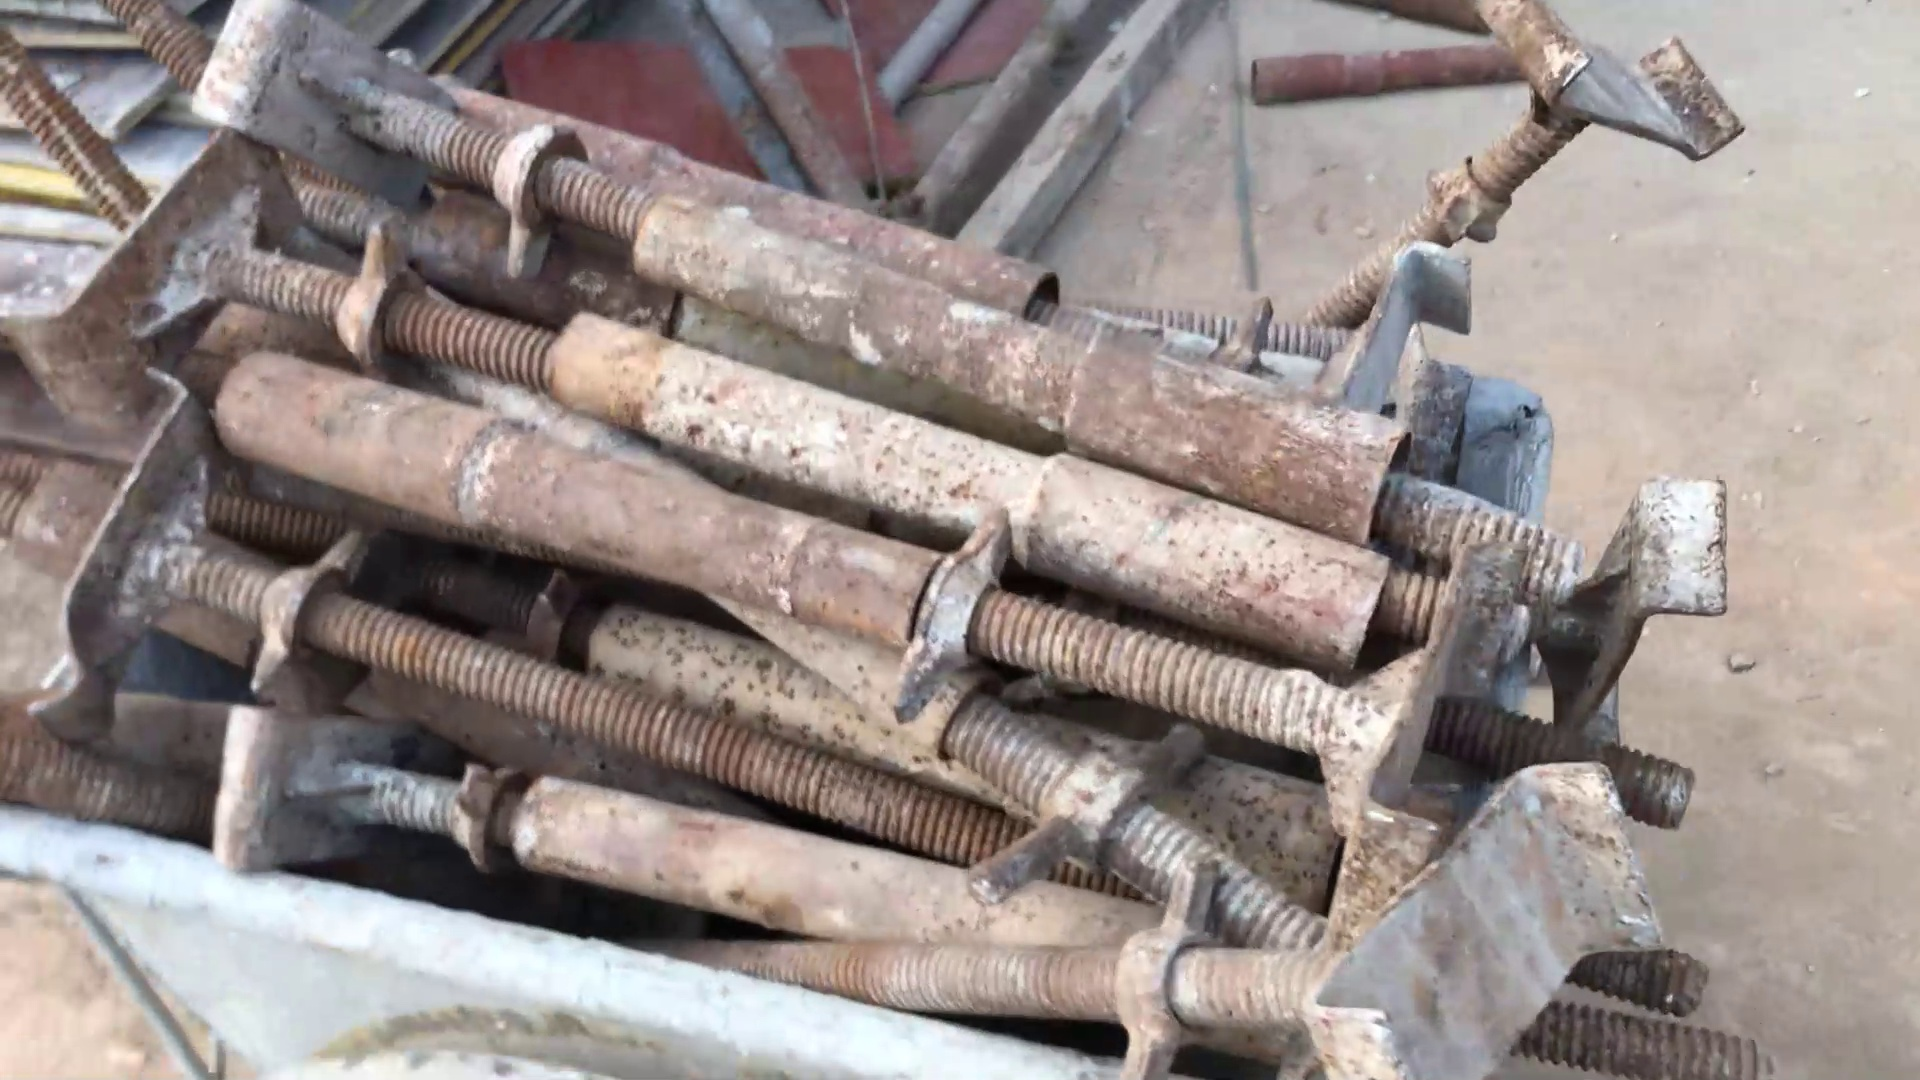handcart: (1, 301, 1592, 1080)
